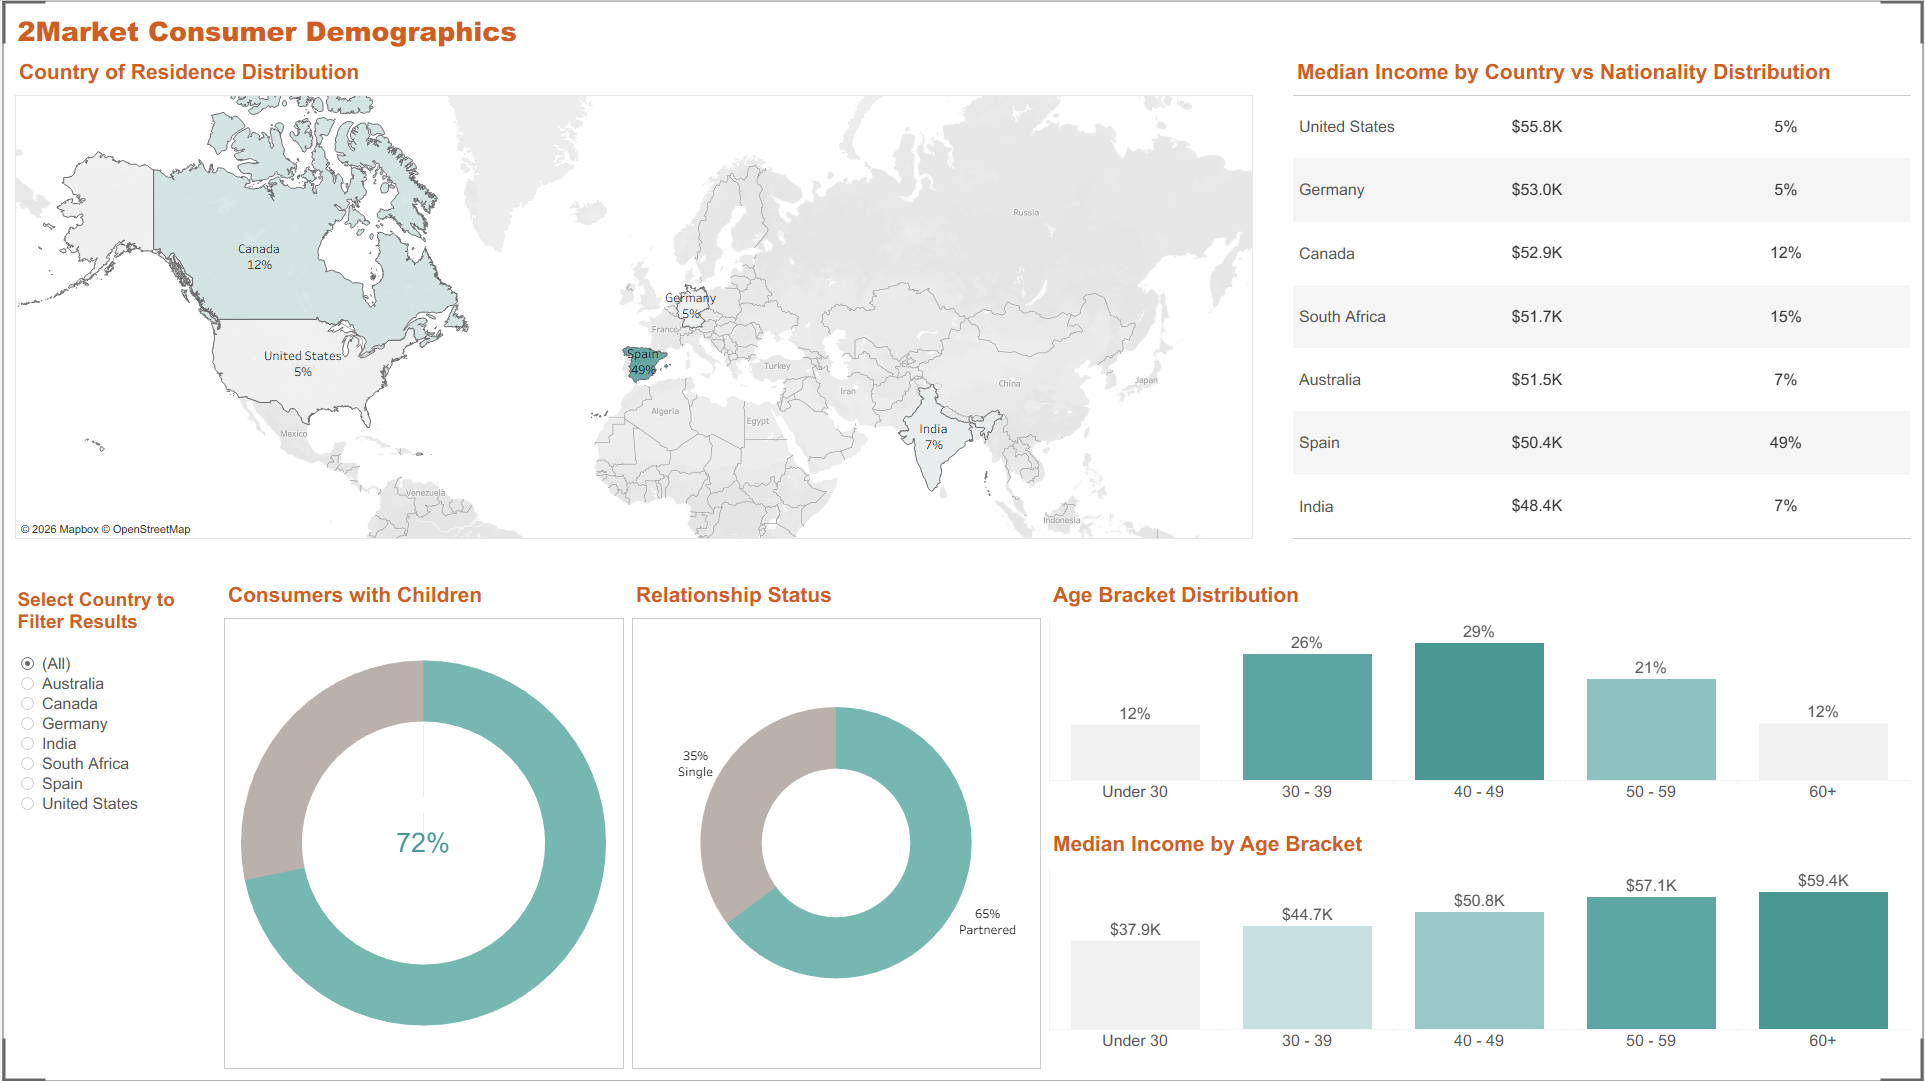

The dashboard page shown, as its layout file describes it:
{"tool":"tableau","page":{"name":"2Market Consumer Demographics","canvas":[1000,800],"ordinal":0},"visuals":[{"type":"text","box":[8,8,984,38]},{"type":"worksheet","title":"Country of Residence Distribution","mark":"Multipolygon","box":[8,46,644,353.2]},{"type":"worksheet","title":"Median Income by Country vs Nationality Distribution","mark":"Automatic","rows":["Country"],"box":[652,46,340.1,353.2]},{"type":"text","box":[8,399.2,160,92.2]},{"type":"worksheet","title":"Consumers with Children","mark":"Pie","rows":["Calculation_612771050742034438","Calculation_612771050742095880"],"box":[168,399.2,212,392.8]},{"type":"worksheet","title":"Relationship Status","mark":"Pie","rows":["Calculation_612771051003887638","Calculation_612771051003899928"],"box":[380,399.2,244,392.8]},{"type":"worksheet","title":"Age Bracket Distribution","mark":"Bar","rows":["Age"],"box":[624,399.2,368,223.2]},{"type":"filter","title":"Consumers with Children","param":"[federated.1kk2em70emojga11suiy405n0gpr].[none:Country:nk]","box":[8,491.4,160,300.6]},{"type":"worksheet","title":"Median Income by Age Bracket","mark":"Automatic","rows":["Income"],"box":[624,622.4,368,169.6]}]}

Visuals, with their boxes on the page's 1000x800 design canvas (x1, y1, x2, y2). These are canvas units, not pixel positions in the 1925x1081 screenshot, which may show the page scaled, cropped or inside an application window:
text: bbox=[8, 8, 992, 46]
"Country of Residence Distribution" worksheet (Multipolygon marks): bbox=[8, 46, 652, 399]
"Median Income by Country vs Nationality Distribution" worksheet: bbox=[652, 46, 992, 399]
text: bbox=[8, 399, 168, 491]
"Consumers with Children" worksheet (Pie marks): bbox=[168, 399, 380, 792]
"Relationship Status" worksheet (Pie marks): bbox=[380, 399, 624, 792]
"Age Bracket Distribution" worksheet (Bar marks): bbox=[624, 399, 992, 622]
"Consumers with Children" filter: bbox=[8, 491, 168, 792]
"Median Income by Age Bracket" worksheet: bbox=[624, 622, 992, 792]
